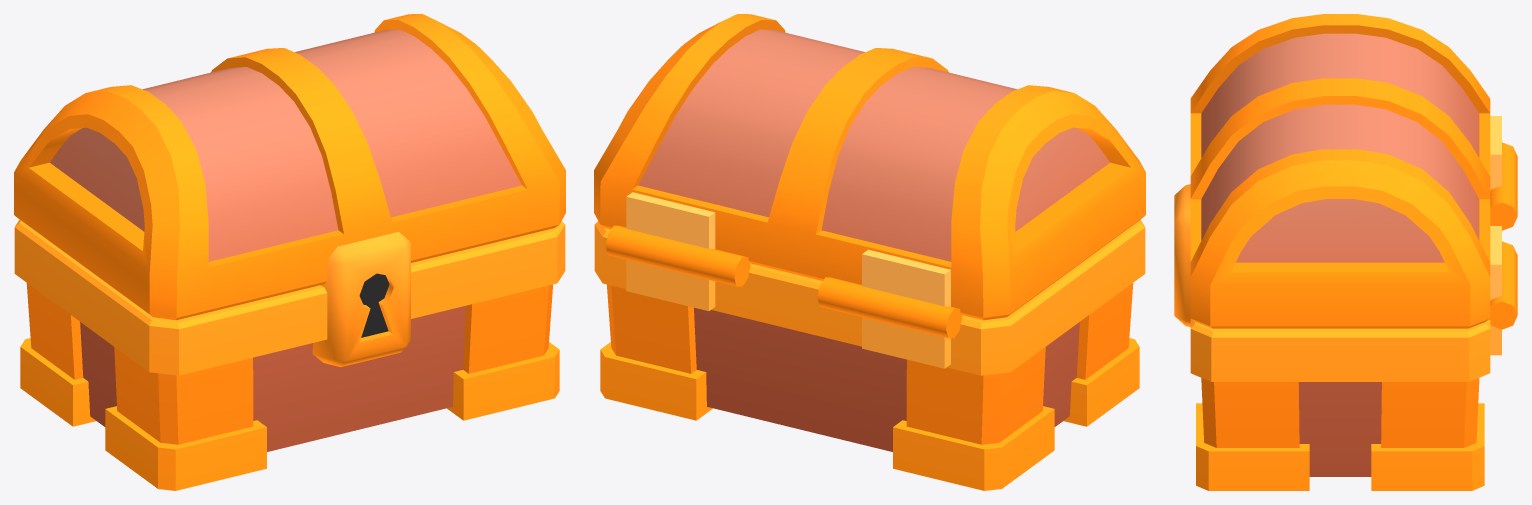
Rendered from chest_001.glb.
3 views of the same model, side by side, from view 1: azimuth 30°, elevation 25°; view 2: azimuth 150°, elevation 25°; view 3: azimuth 270°, elevation 25° (orthographic). The views are drawn at different scales.
Parts seen in each view (by area): view 1: chest_lid_001, chest_001; view 2: chest_lid_001, chest_001; view 3: chest_lid_001, chest_001.
Boxes of the visible parts, <box> form: chest_lid_001: <box>14,14,565,320</box>; chest_001: <box>14,220,565,490</box>; chest_lid_001: <box>594,14,1145,320</box>; chest_001: <box>594,220,1145,490</box>; chest_lid_001: <box>1190,14,1501,328</box>; chest_001: <box>1174,142,1517,490</box>.
Bounding box in the file's own units: 1.74 × 1.29 × 1.3.
Materials: 2 (2 with a texture image).
